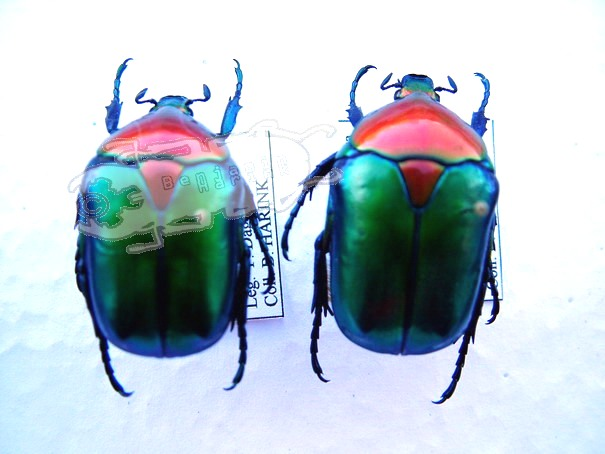Protaetia_speciosa_jousseliniw: (276, 55, 507, 405), (72, 45, 260, 398)
